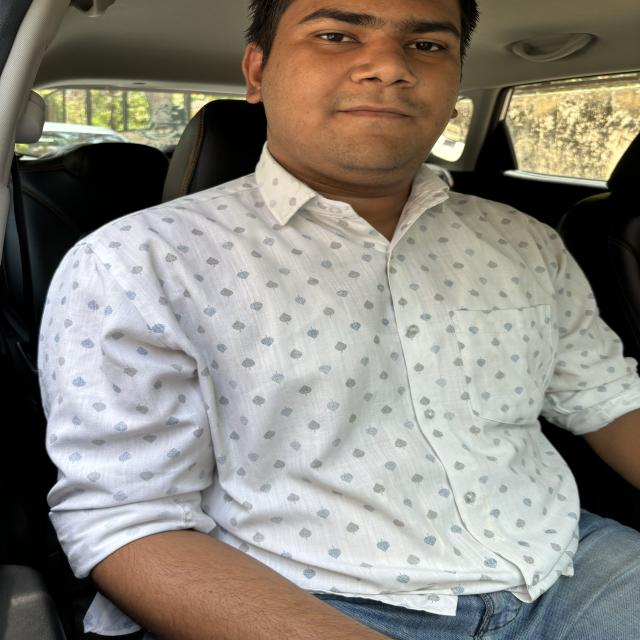no-seatbelt: (80, 174, 594, 596)
